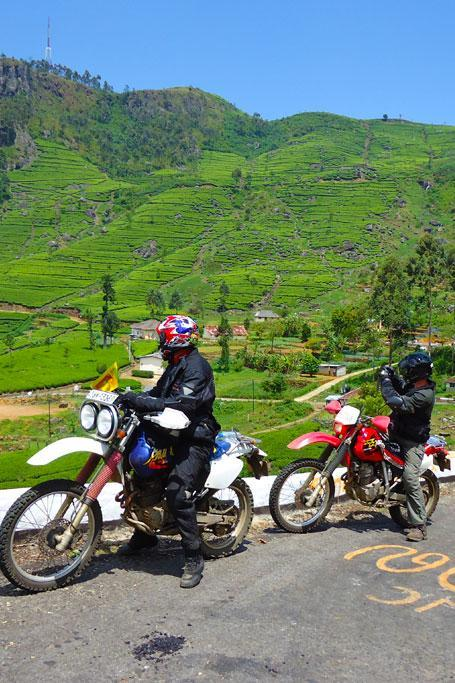motorbike: (1, 389, 271, 590), (269, 404, 451, 534)
